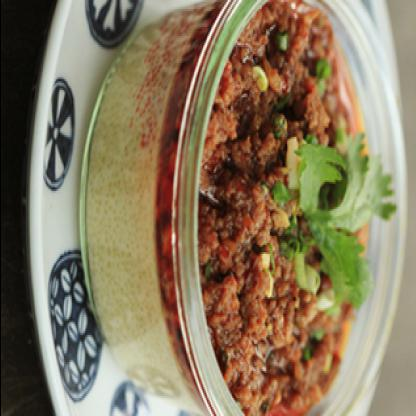Kaithoon: (74, 0, 388, 413)
